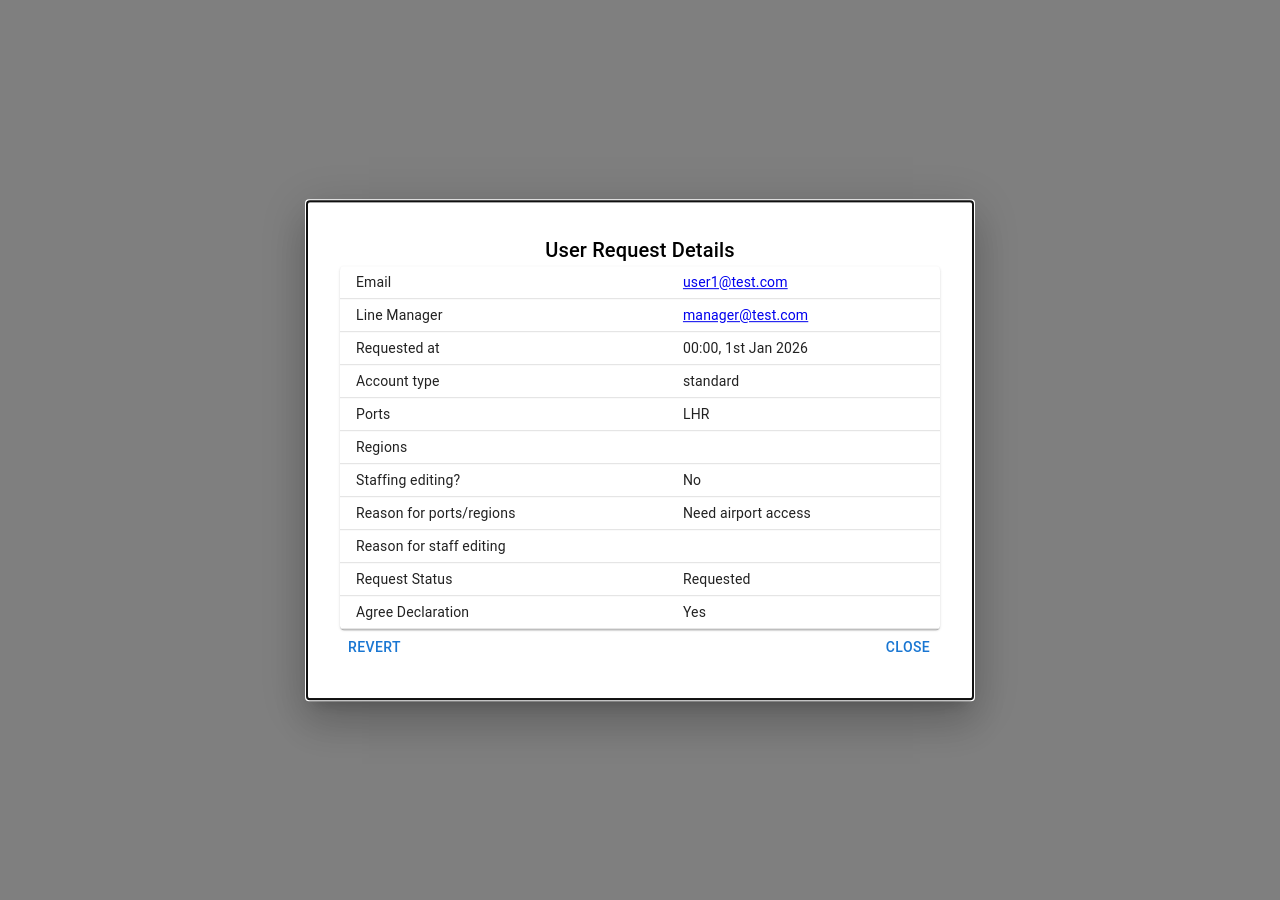
<AccessRequestDetails /> › waits for revert completion before showing revert confirmation
Click the button "Revert". click: (374, 648)
box: [340,629,409,666]
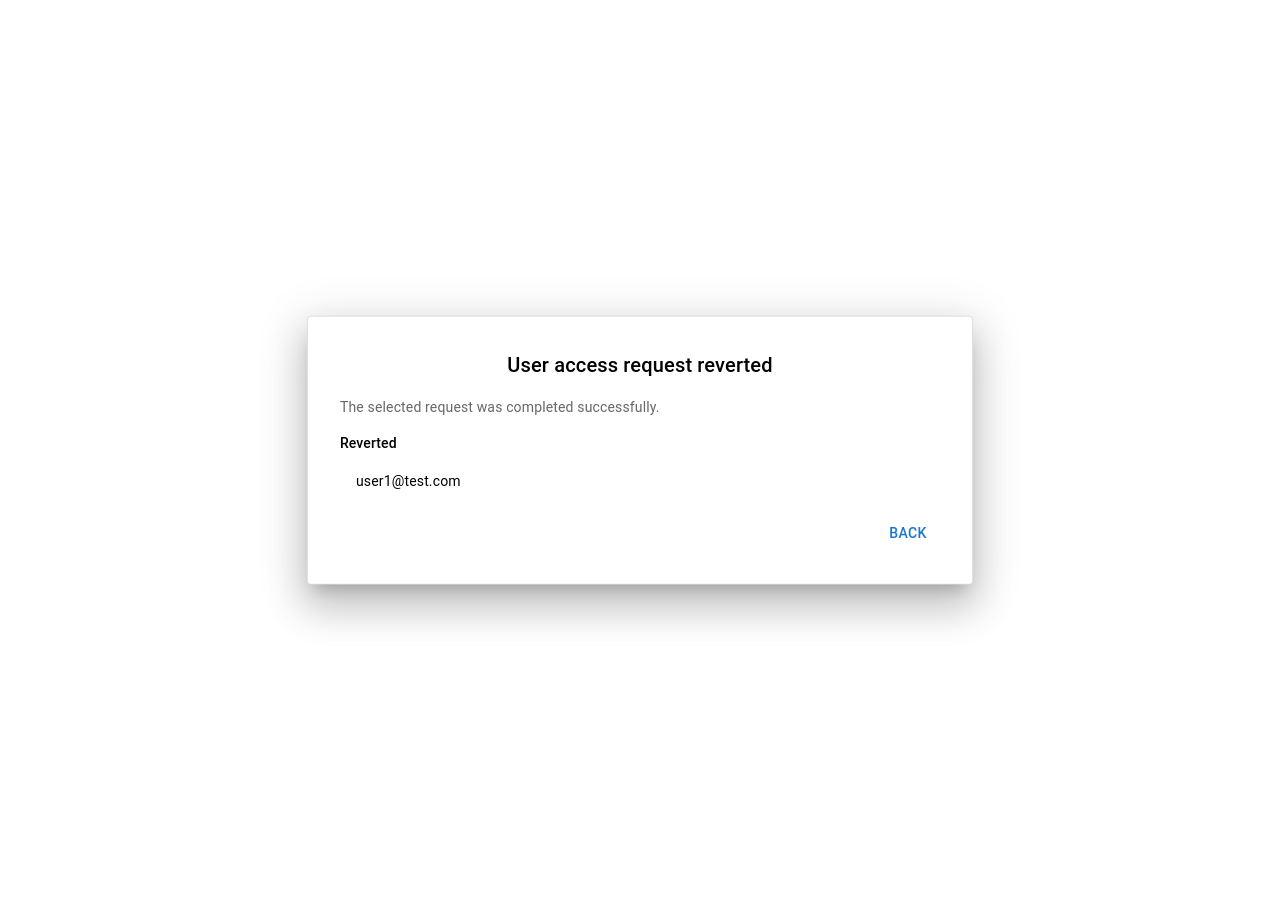
Check: the heading "User access request reverted" is shown, box [507,353,773,377]
Check: the text "The selected request was completed successfully." is shown, box [340,399,660,415]
Check: the heading "Reverted" is shown, box [340,435,397,451]
